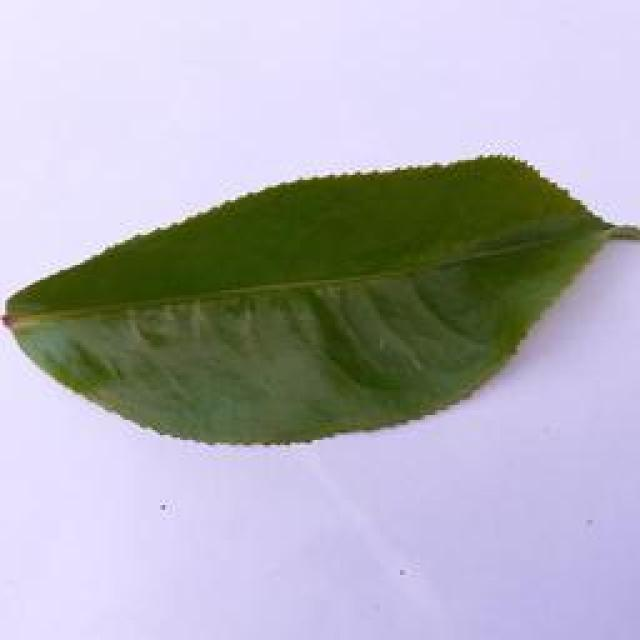Healthy: (0, 154, 640, 441)
